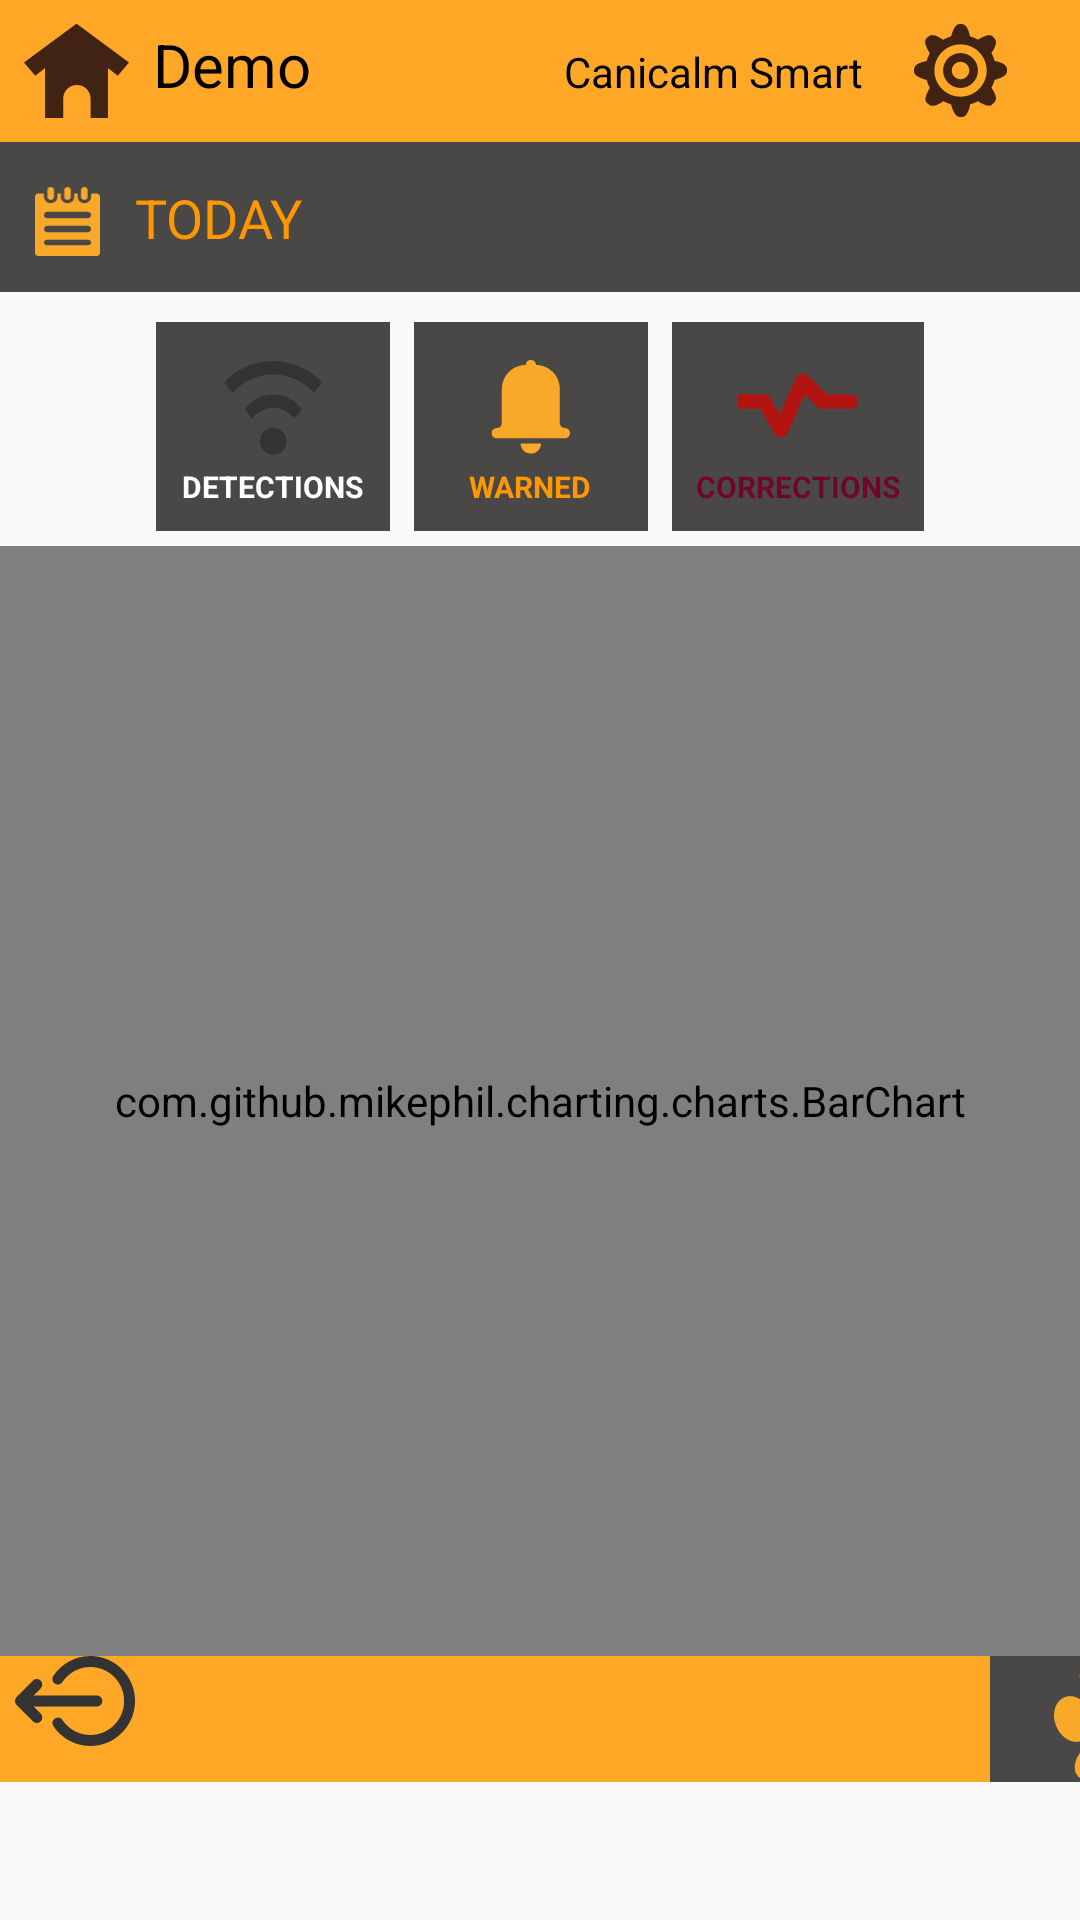

Locate icon controls on the screen. Image size 1080w x 1920h, boxes as detection(x1, y1, x2, y2).
home: detection(24, 24, 129, 118)
out: detection(15, 1656, 135, 1746)
param: detection(914, 24, 1007, 117)
